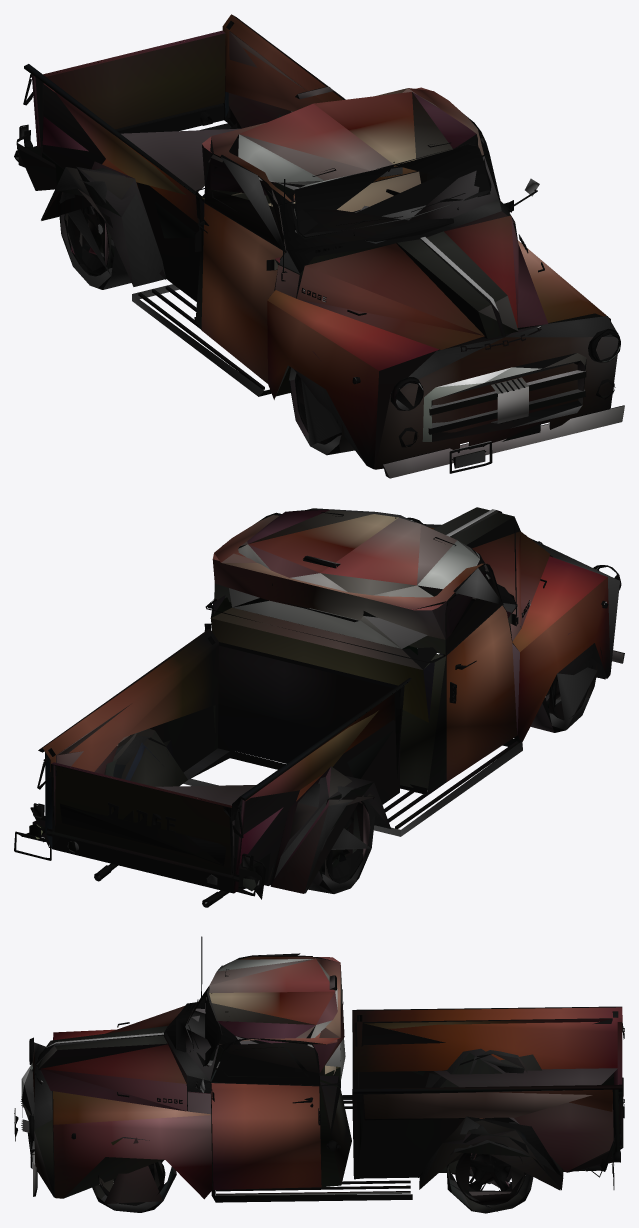
The model's file is dodge-pickup.lod.glb.
3 views of the same model, one above another, from view 1: azimuth 30°, elevation 25°; view 2: azimuth 150°, elevation 25°; view 3: azimuth 270°, elevation 25° (orthographic). The views are drawn at different scales.
Visible parts, largest first — view 1: Object_2; view 2: Object_2; view 3: Object_2.
Boxes of the visible parts, x1,y1,x2,y2 form: Object_2: (14,14,624,478); Object_2: (14,507,624,907); Object_2: (14,936,624,1213).
Size of the model in its own units: 2.22 by 1.8 by 5.39.
1 material, 1 textured.
